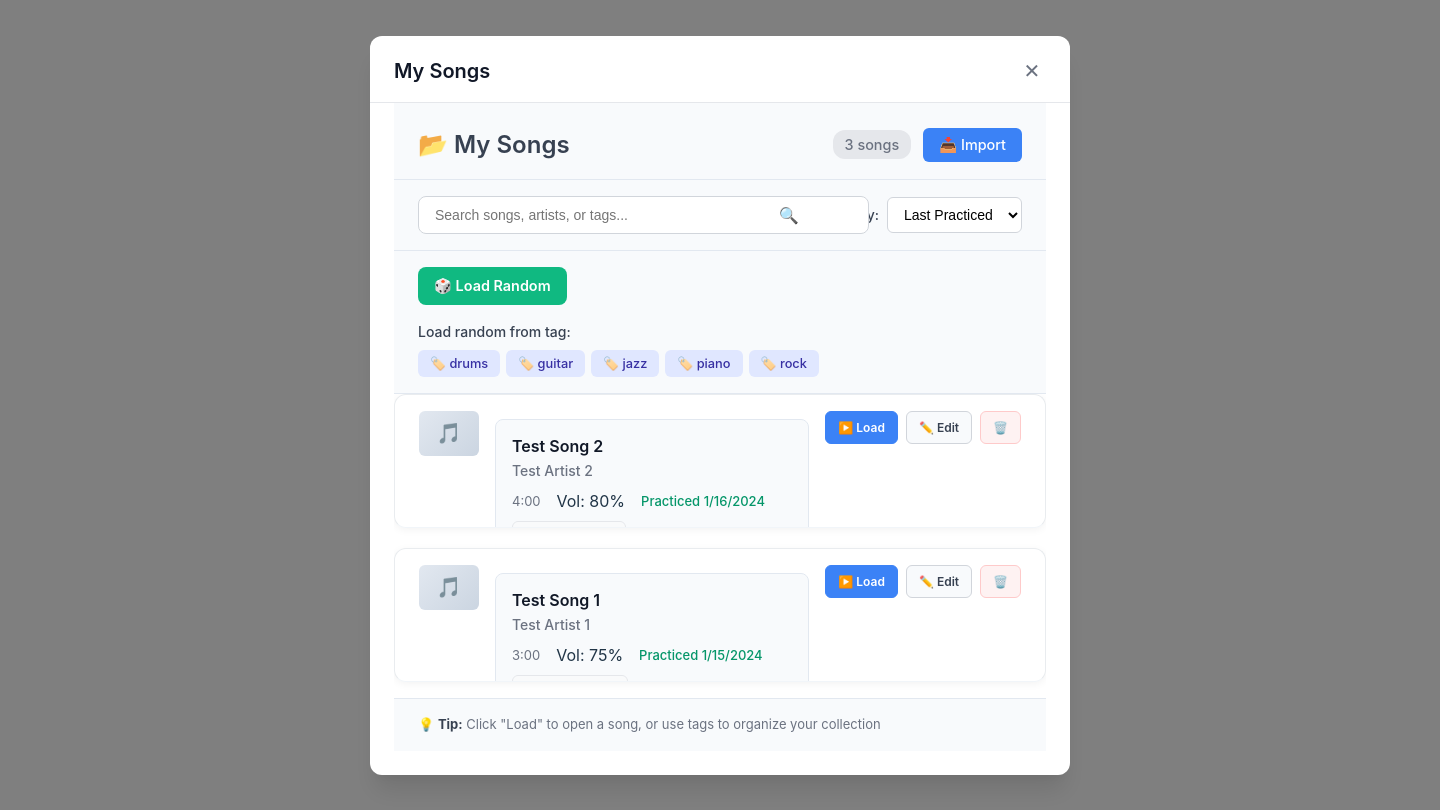
Test: MySongsModal - Quick Load and Random Load › Edge cases and filtered results › shows empty state when search filter returns no results but songs exist
The image size is (1440, 810).
// Type a search that won't match any songs
Type "nonexistentsong" into the field with placeholder "Search songs, artists, or tags..." at (643, 214), box top-left (418, 196), bottom-right (869, 234)
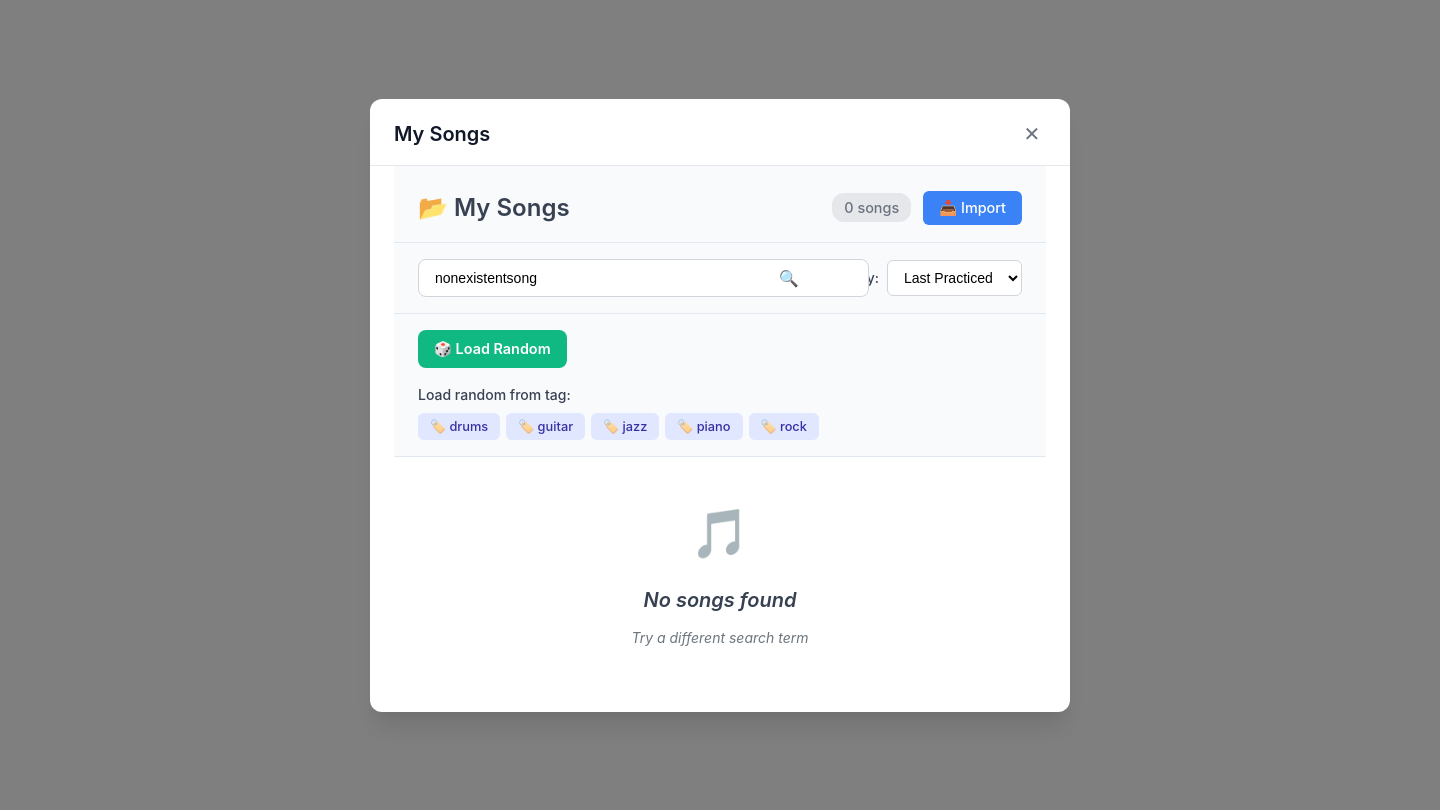
Check: the heading "No songs found" is shown, box top-left (644, 588), bottom-right (796, 612)
Check: the text "Try a different search term" is shown, box top-left (631, 628), bottom-right (808, 646)
